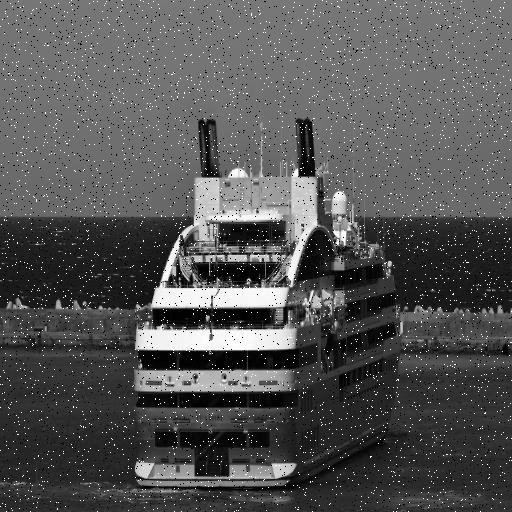cruises: (129, 115, 405, 496)
